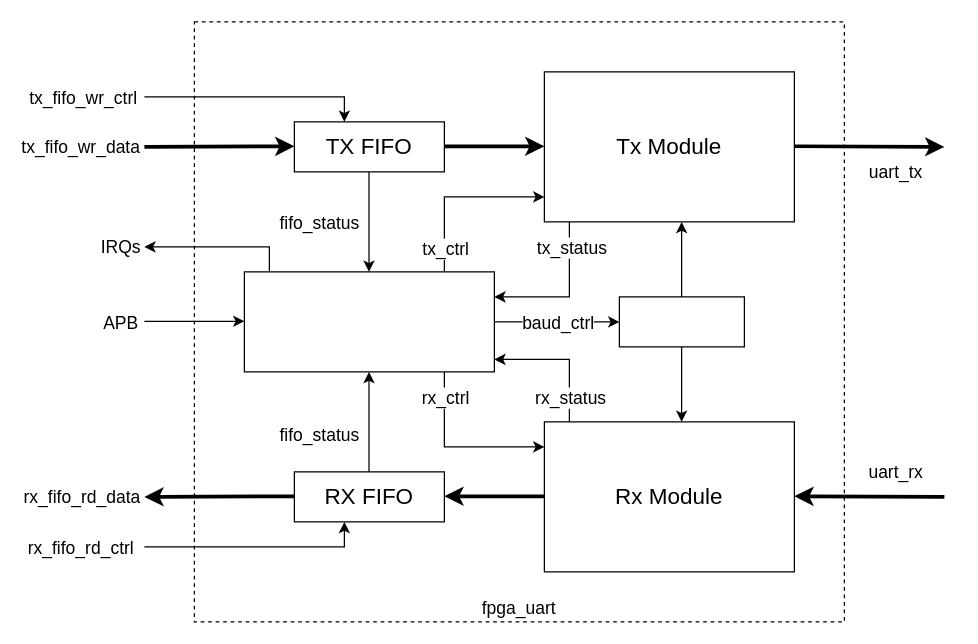
This 978x644 diagram has some shape labels left out. Each missing label, with the centre of its shape:
Baud Generator: pixel 681 321
Control and Status Registers: pixel 368 321
